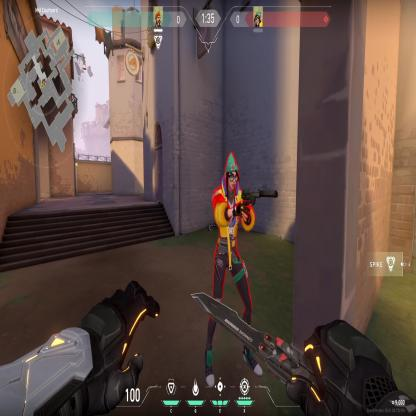enemy: (210, 151, 255, 321)
